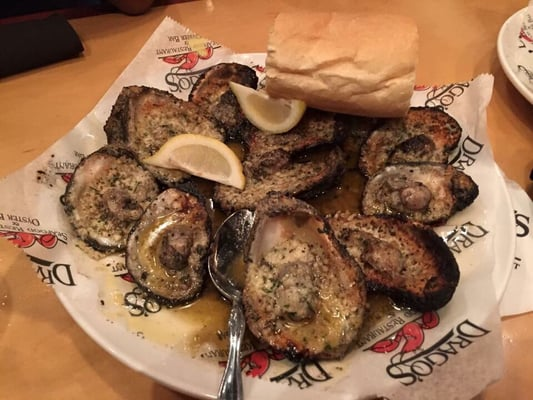salad: (207, 208, 250, 399)
soup: (262, 5, 422, 120)
